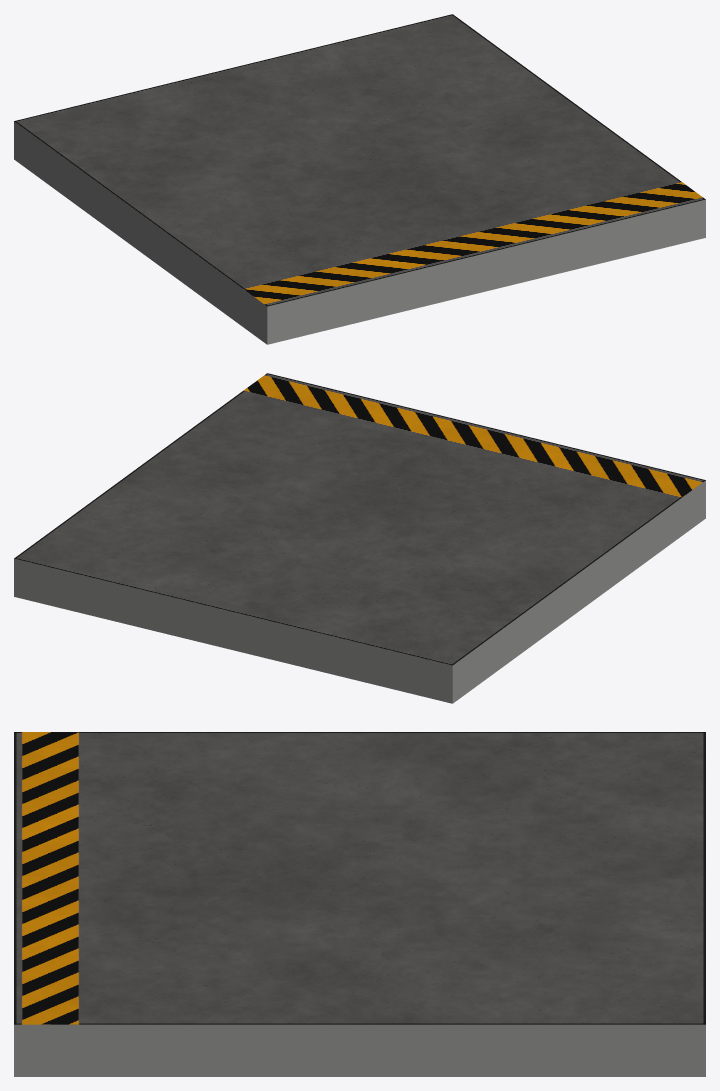
The model's file is Tile_Concrete_Hazard_1200.glb.
The picture shows the model from 3 angles, top to bottom: view 1: azimuth 30°, elevation 25°; view 2: azimuth 150°, elevation 25°; view 3: azimuth 270°, elevation 25°; orthographic projection. The views are drawn at different scales.
Parts seen in each view (by area): view 1: Top, Body; view 2: Top, Body; view 3: Top, Body.
Part boxes in pixels (left/top/right/bottom): Top: left=14, top=14, right=705, bottom=306; Body: left=14, top=121, right=705, bottom=344; Top: left=14, top=373, right=705, bottom=665; Body: left=14, top=480, right=705, bottom=703; Top: left=14, top=732, right=705, bottom=1024; Body: left=14, top=1024, right=705, bottom=1076.
Bounding box in the file's own units: 1.2 × 0.1001 × 1.2.
Materials: 2 (1 with a texture image).
